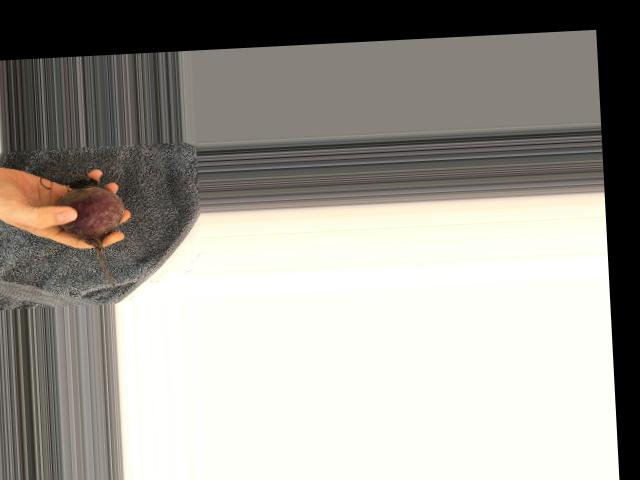beet: (54, 177, 129, 291)
